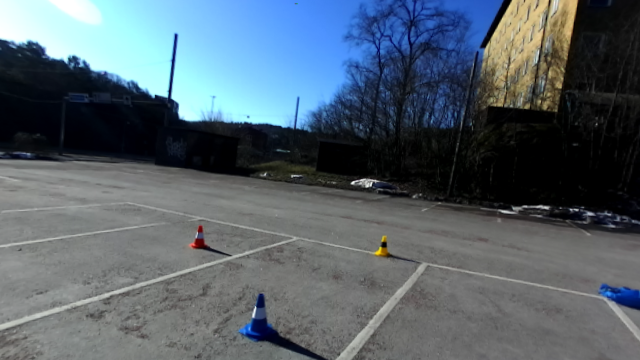blue: (239, 292, 279, 343)
orange: (188, 223, 211, 250)
yellow: (371, 232, 392, 259)
